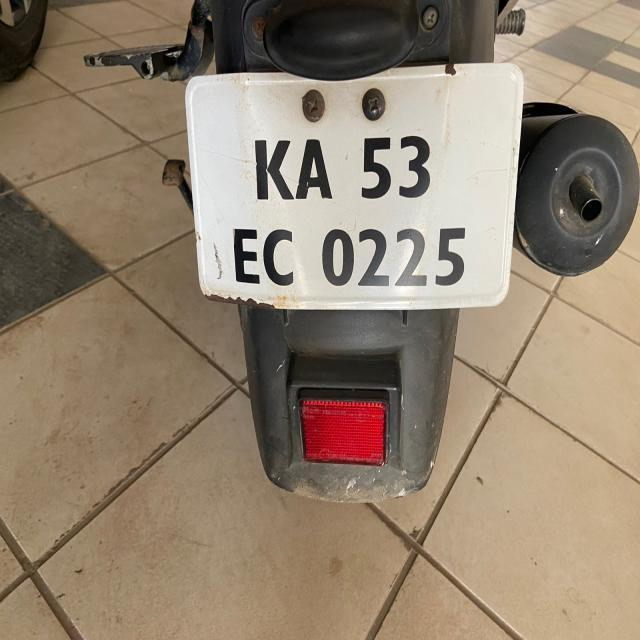0: (318, 223, 358, 286)
3: (395, 130, 435, 202)
5: (357, 131, 397, 209), (433, 218, 470, 294)
A: (292, 131, 340, 202)
C: (261, 223, 296, 293)
E: (223, 218, 265, 292)
K: (249, 132, 294, 201)
